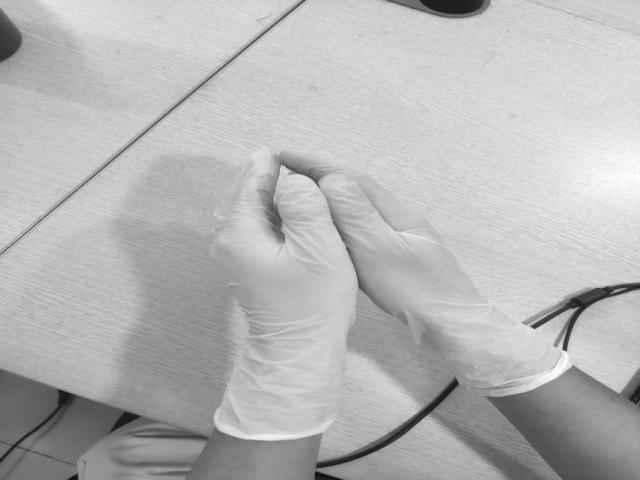gloved: (286, 146, 530, 326), (214, 148, 356, 356)
